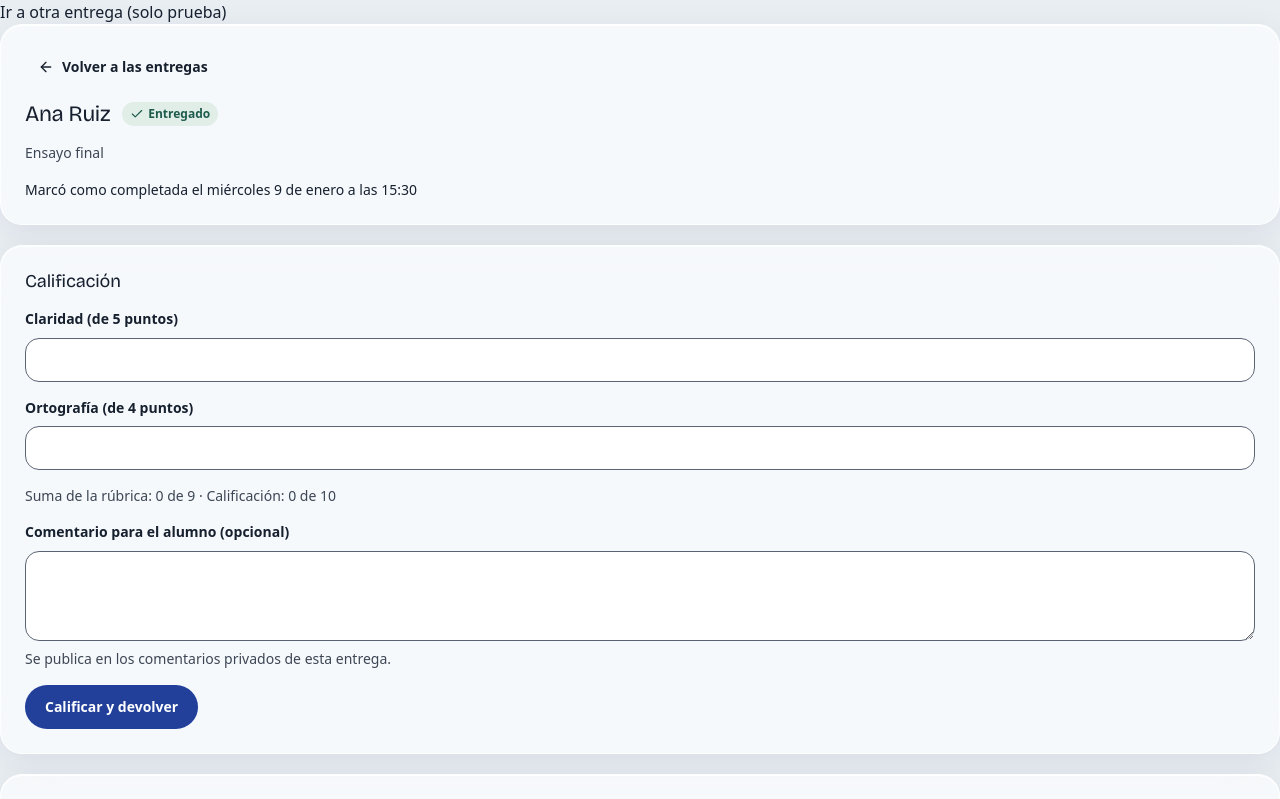
ataque 01c r2 · cruces de la recarga tras un 409 (T-03) › CAL-T-101: RUBRICA_MODIFICADA con La rúbrica o los puntos de la tarea cambiaron mientras calificabas. No se guardó tu calificación; vuelve a calificar con la ve
In the field labelled "Claridad (de 5 puntos)": (640, 360) [25,338,1255,382], type "4"
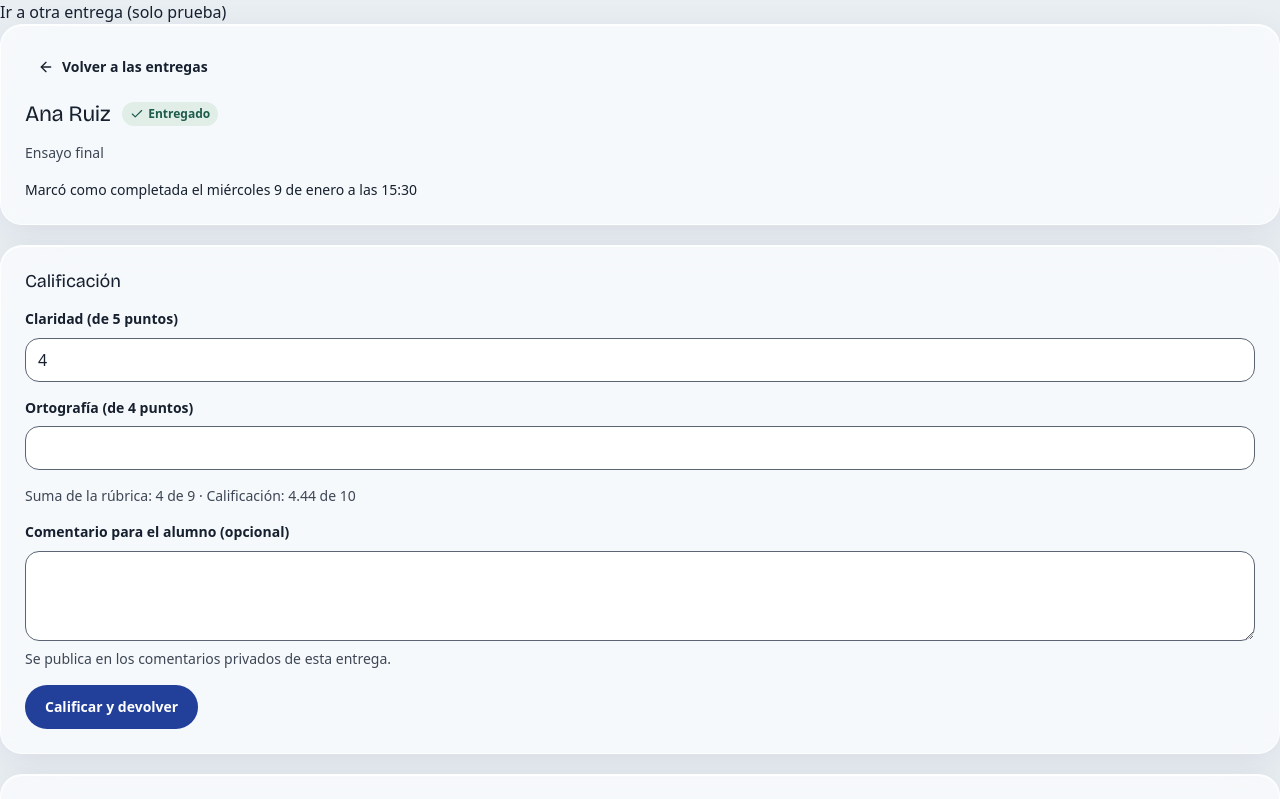
In the field labelled "Ortografía (de 4 puntos)": (640, 448) [25,426,1255,470], type "3"
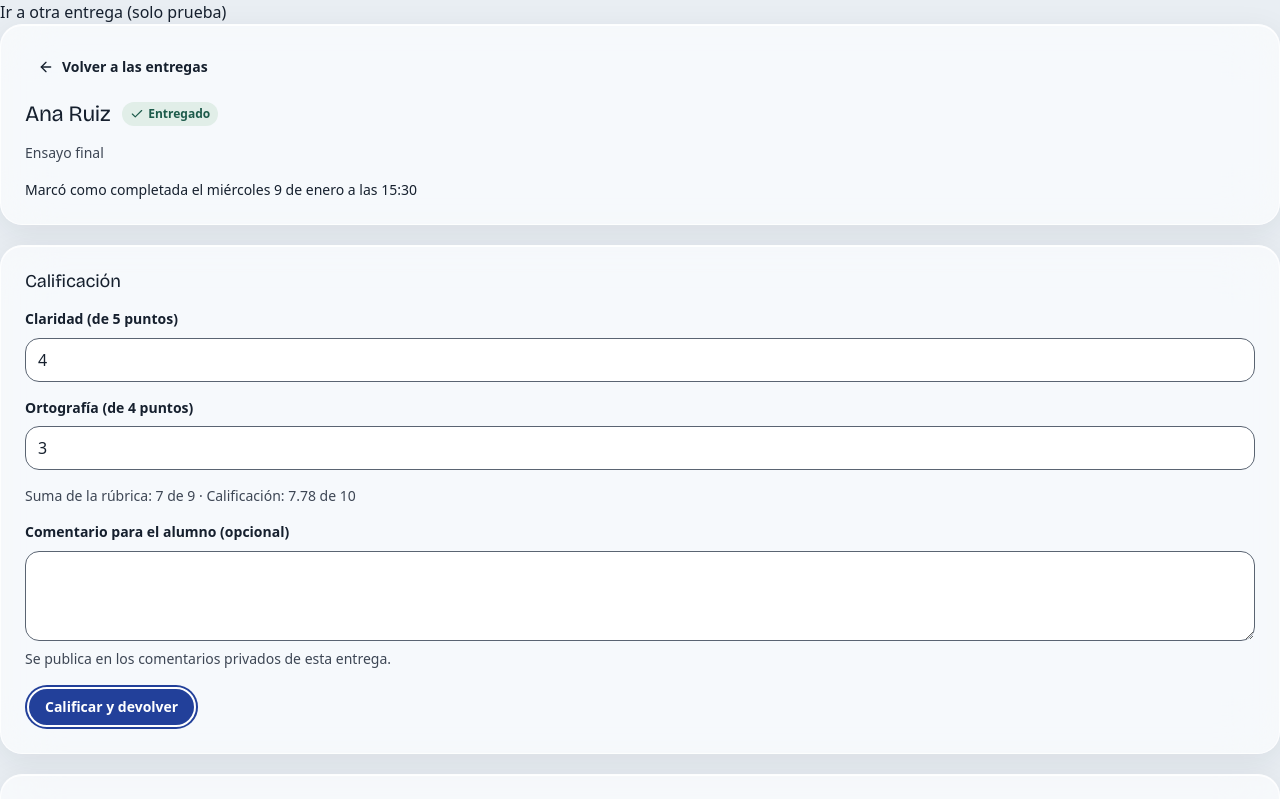
Click the button "Calificar y devolver": (112, 707) [25,685,198,729]
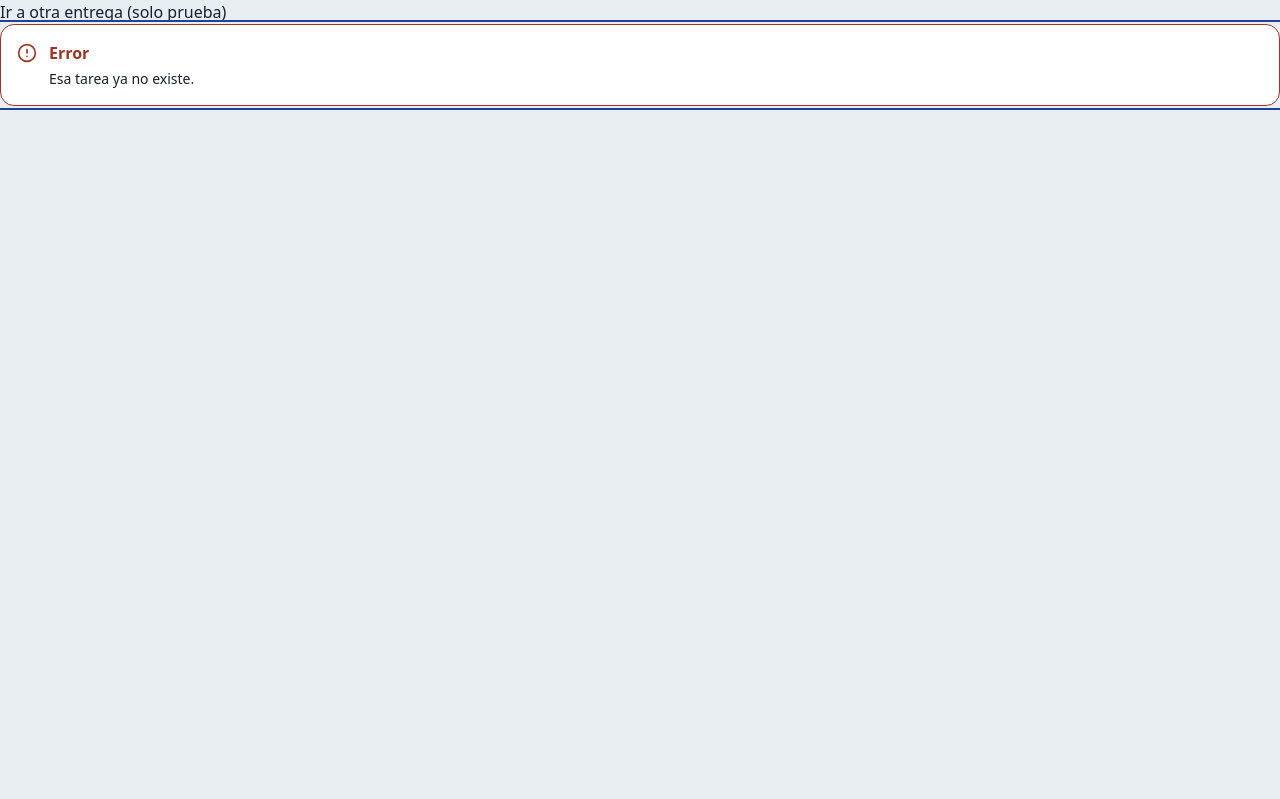
Now the text "Esa tarea ya no existe." is shown, box [49,69,194,89]
Now the label labelled "Claridad (de 5 puntos)" is gone
